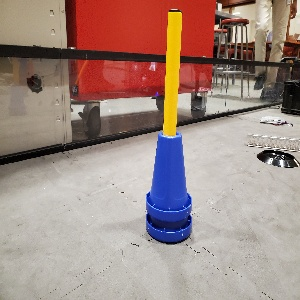Blue_2: (145, 129, 192, 244)
